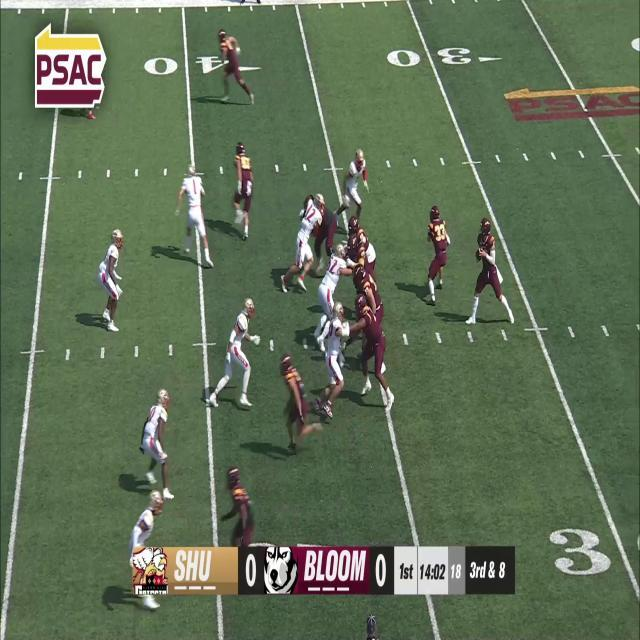football: (475, 247, 483, 264)
